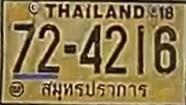1: (137, 26, 143, 74)
2: (37, 23, 59, 72), (104, 24, 126, 73)
4: (79, 23, 101, 72)
6: (154, 26, 175, 72)
7: (12, 22, 34, 72)
SPK: (37, 77, 152, 104)
